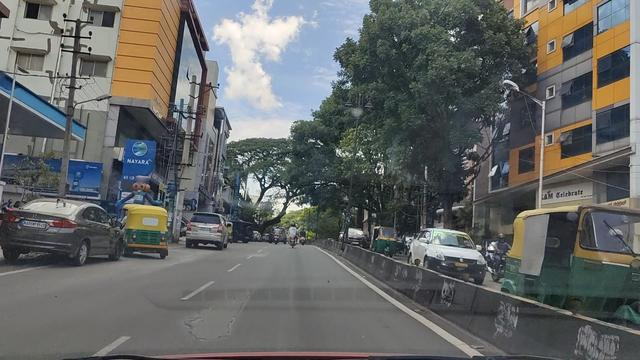LMV: (10, 203, 119, 262), (116, 206, 165, 253)
RoadDamages: (178, 286, 253, 349)
